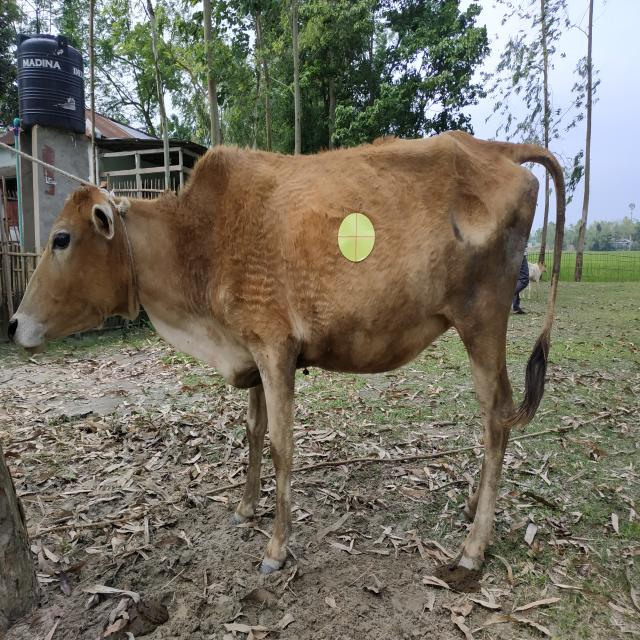badan_sapi: (203, 146, 533, 371)
sapi: (8, 111, 578, 618)
